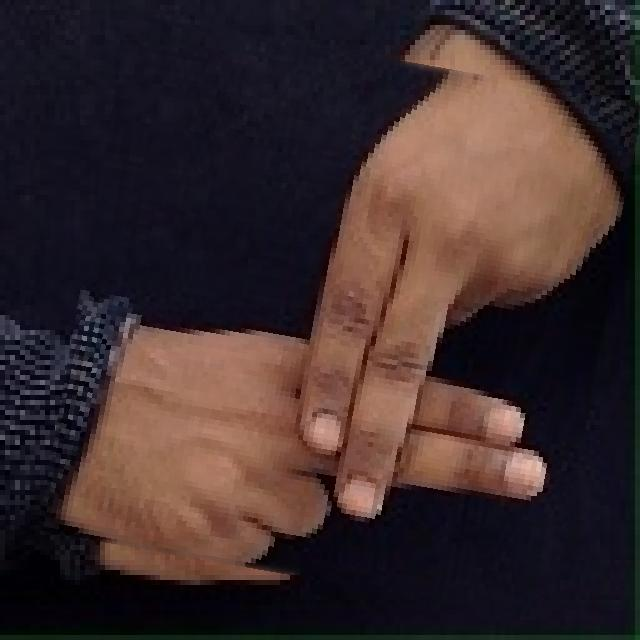F: (59, 34, 623, 600)
